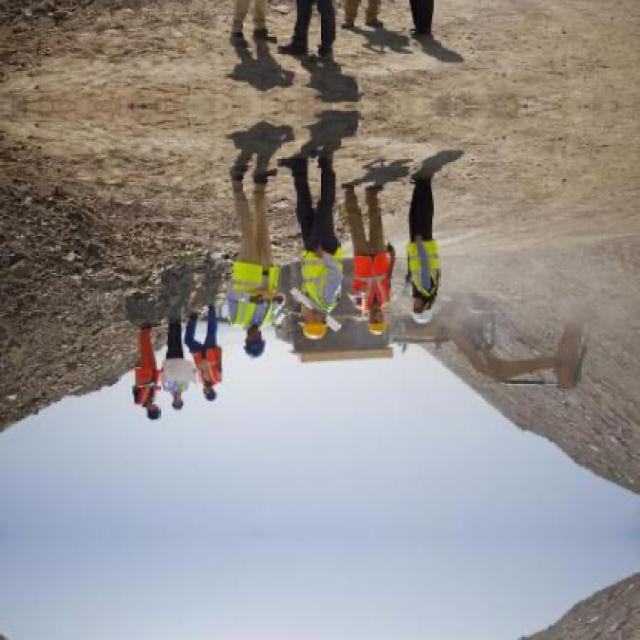con casco: (412, 300, 455, 329), (301, 311, 338, 344), (144, 398, 169, 425), (372, 310, 393, 340), (244, 330, 272, 350), (171, 396, 188, 412), (202, 390, 221, 402)
